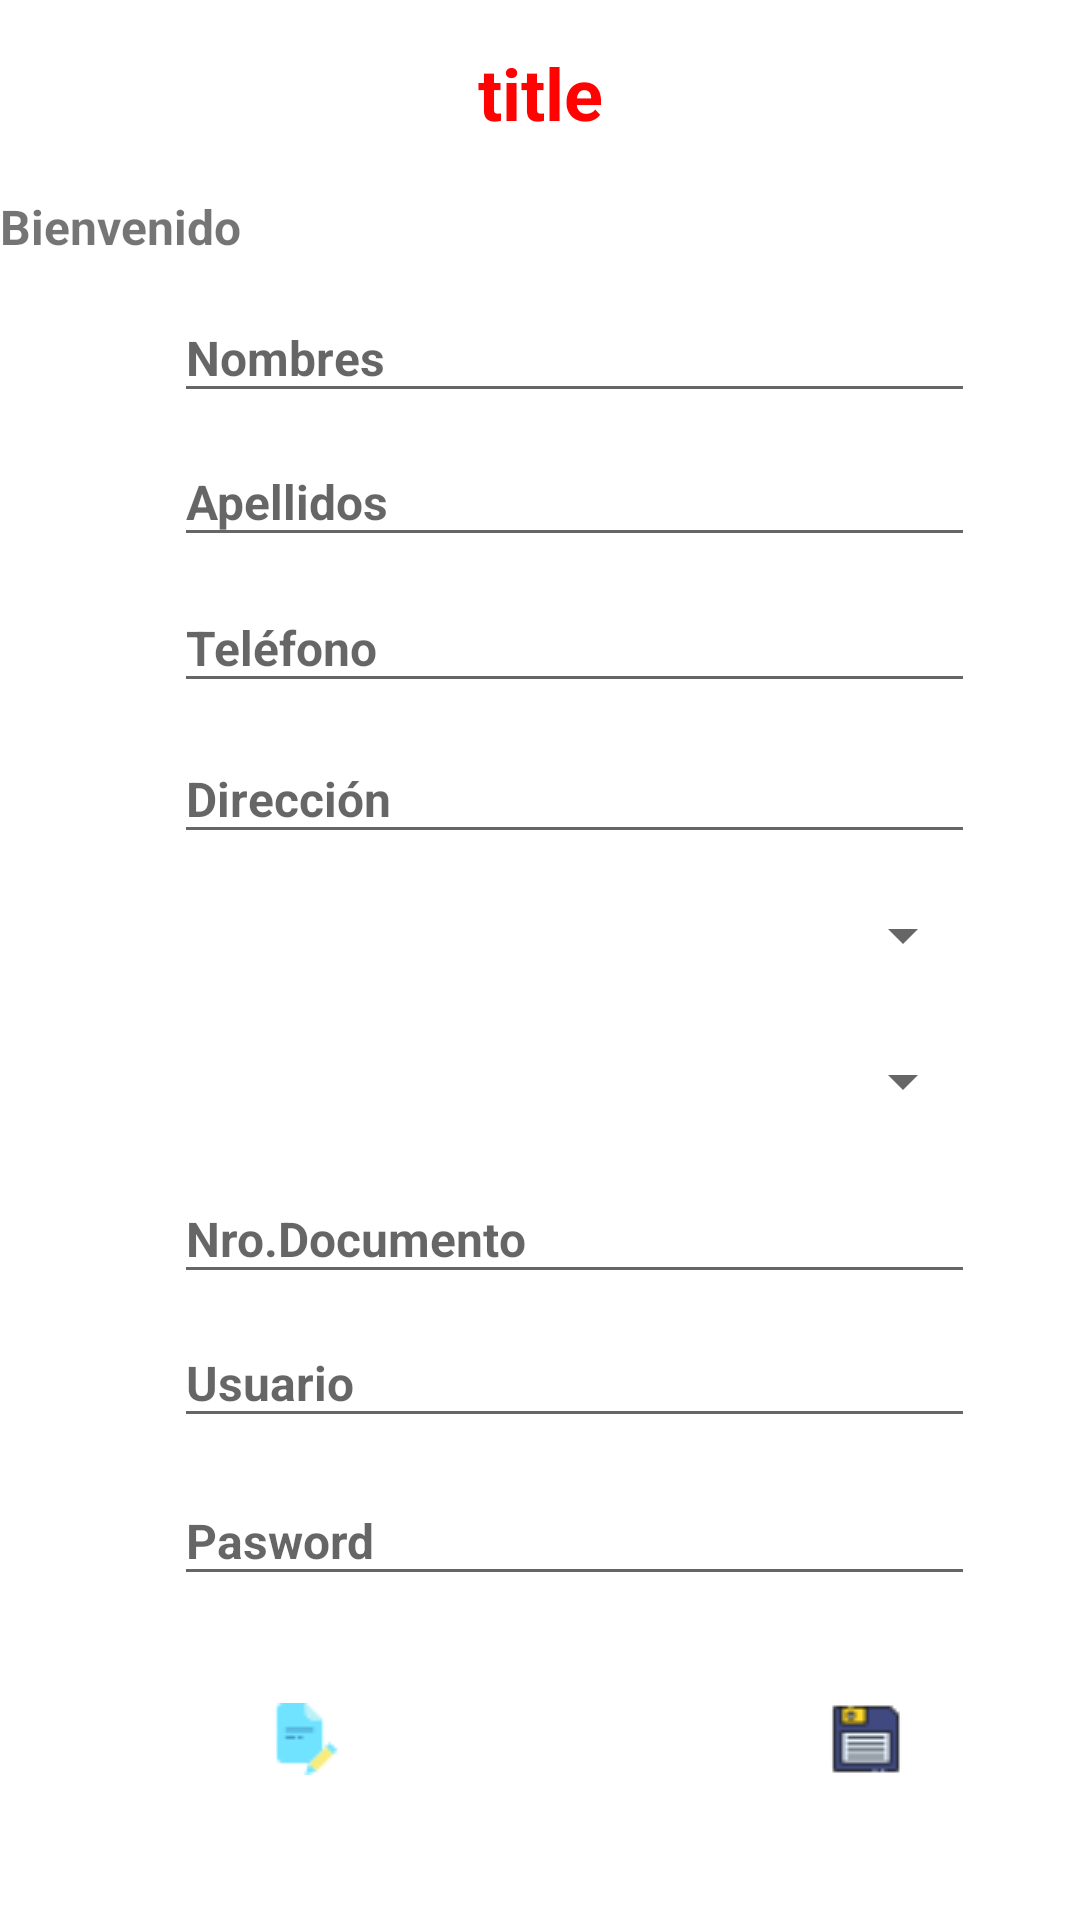

Named icons in this screenshot (1080px x 1920px) and their bounding boxes, [x1,y1,x2,y2]:
disquete: [832,1705,900,1773]
editar archivo: [276,1703,338,1775]
